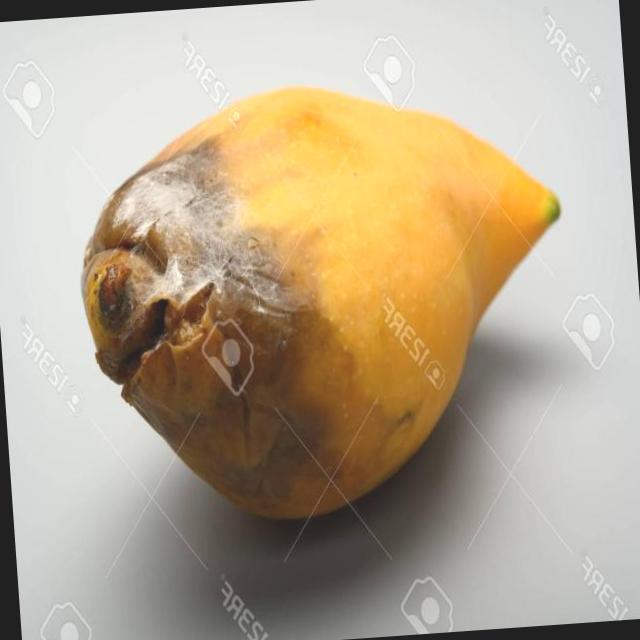Mango: (62, 62, 584, 526)
